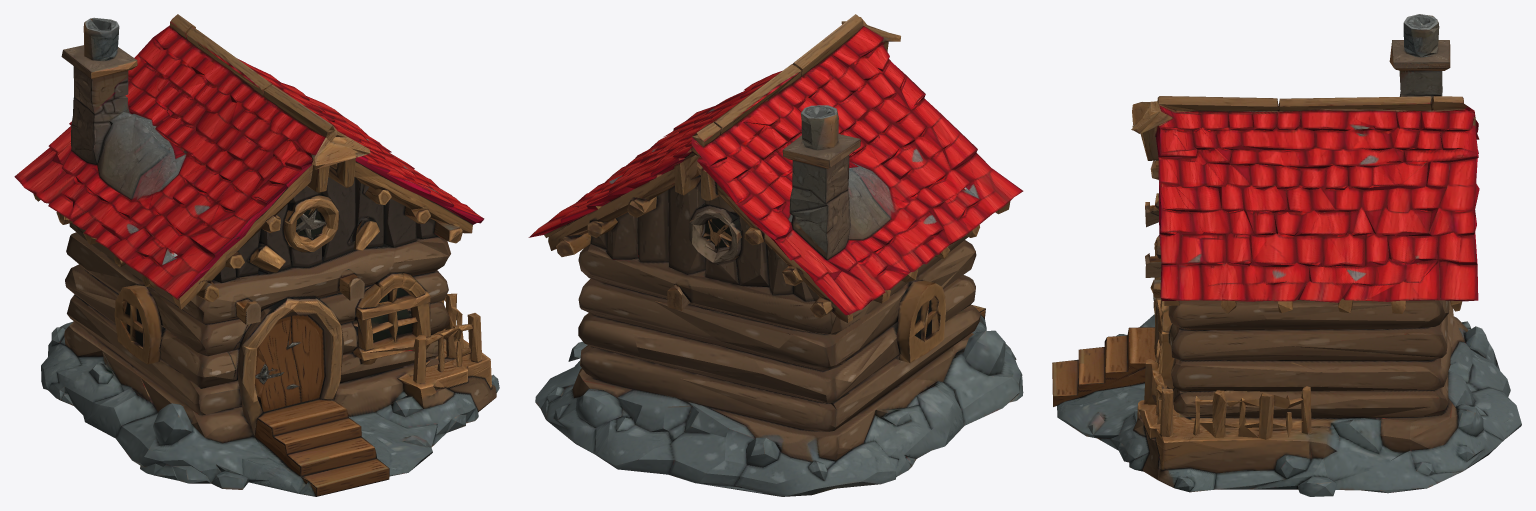
File: casa.glb
The picture shows the model from 3 angles, left to right: view 1: azimuth 30°, elevation 25°; view 2: azimuth 150°, elevation 25°; view 3: azimuth 270°, elevation 25°; orthographic projection. The views are drawn at different scales.
Size of the model in its own units: 1.67 by 1.51 by 1.9.
Materials: 1 (1 with a texture image).
